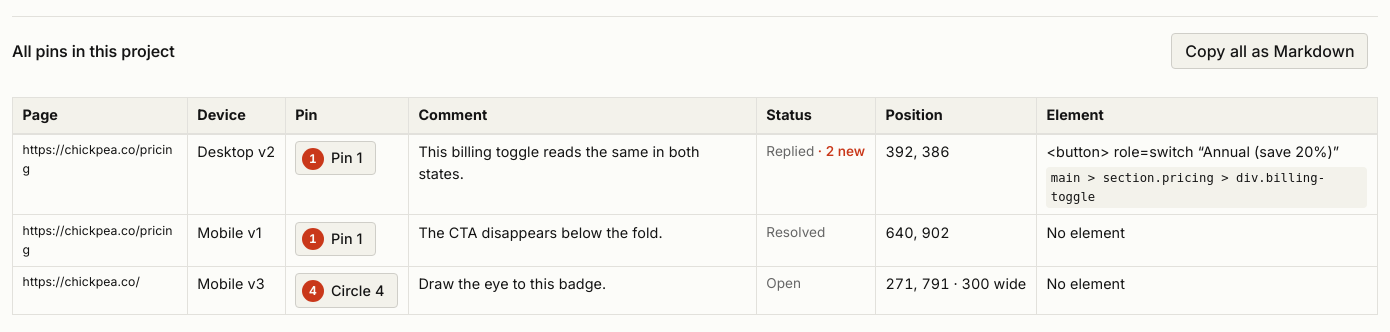
circles in the table (D082) › Copy all counts the circle among the rows
The image size is (1390, 332).
Click the button "Copy all as Markdown" at (1270, 51), box [1171,33,1368,69]
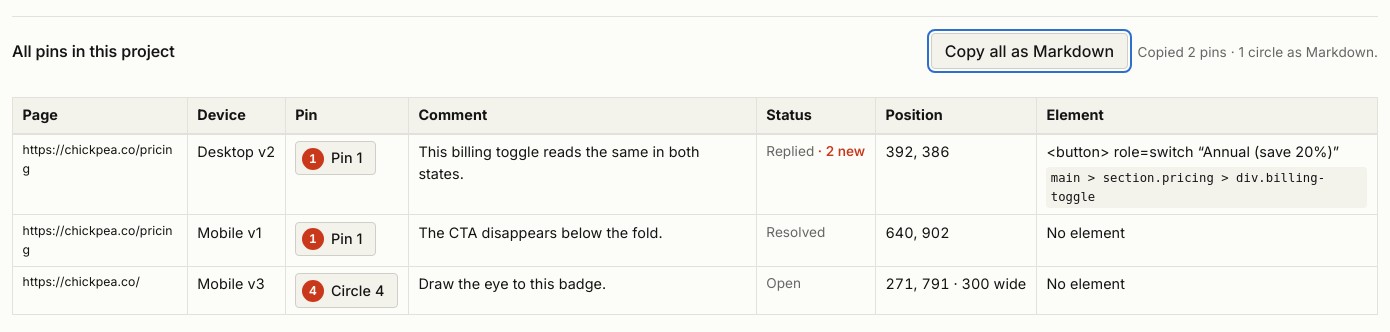
Check: the message reads "Copied 2 pins · 1 circle as Markdown.", box [1138,44,1378,60]
